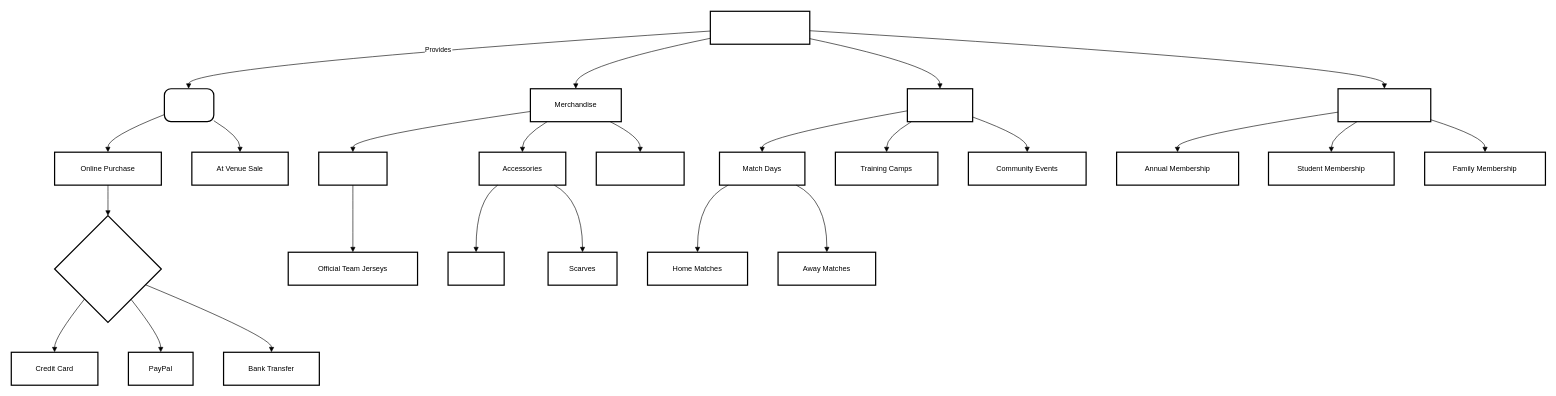
The diagram is 1556 pixels wide and 396 high, and some of its shapes have lost their labels. Here are the shapes that lost their labels. From the top down, the centre of each, then its label:
the point at 759,27: HokejCentrum
the point at 188,105: Tickets
the point at 939,105: Events
the point at 1384,105: Memberships
the point at 352,168: Jerseys
the point at 639,168: Collectibles
the point at 108,269: Payment Options
the point at 475,268: Hats
